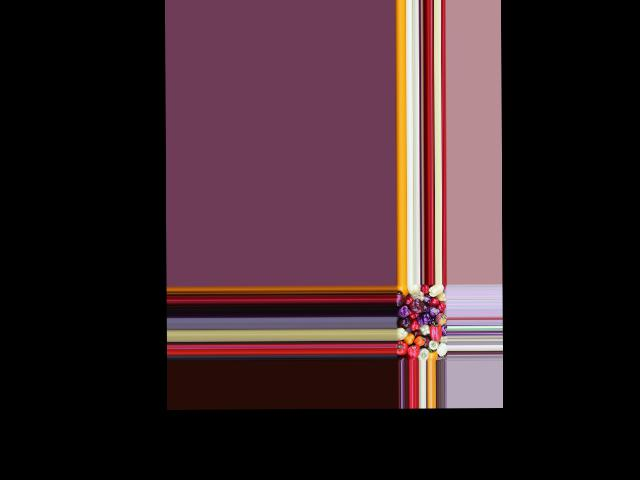bell_pepper: (418, 346, 427, 360)
